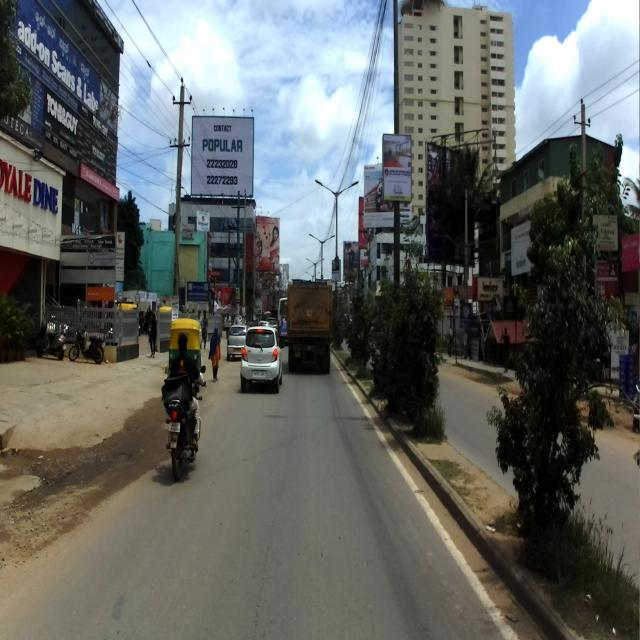car: (238, 320, 284, 391)
motorcycle: (164, 362, 206, 481)
truck: (287, 270, 333, 378)
